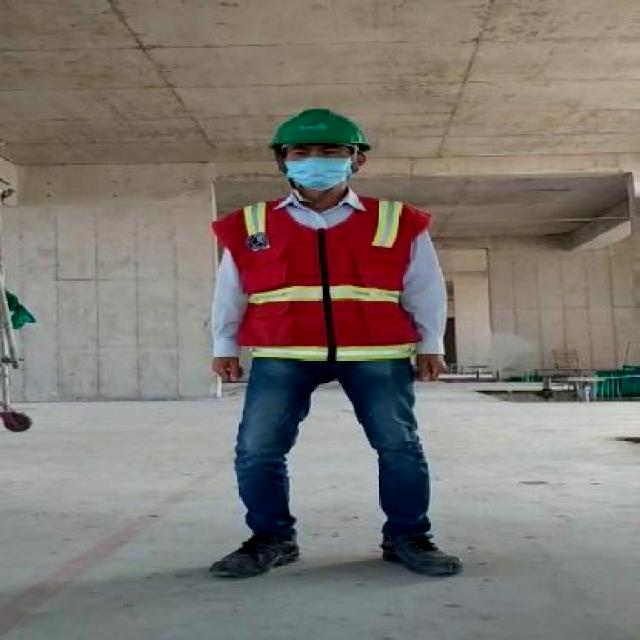face_mask: (283, 145, 359, 187)
hand_noglove: (408, 344, 450, 390), (208, 349, 252, 383)
head_helmet: (267, 106, 375, 151)
person: (202, 105, 449, 589)
shoes: (370, 511, 467, 584), (205, 519, 308, 584)
vest: (214, 195, 441, 376)
